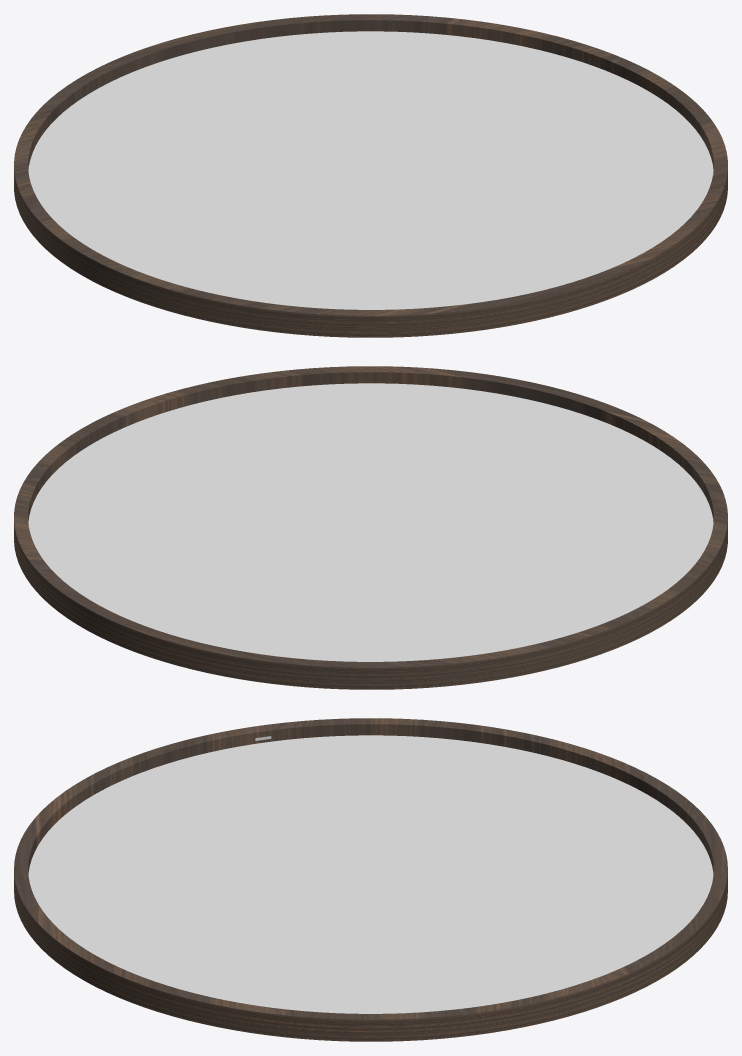
Rendered from mirror.gltf.
3 views of the same model, one above another, from view 1: azimuth 30°, elevation 25°; view 2: azimuth 150°, elevation 25°; view 3: azimuth 270°, elevation 25° (orthographic).
Parts seen in each view (by area): view 1: Mirror Free 1; view 2: Mirror Free 1; view 3: Mirror Free 1.
Boxes of the visible parts, x1,y1,x2,y2 form: Mirror Free 1: [14, 14, 727, 337]; Mirror Free 1: [14, 366, 727, 689]; Mirror Free 1: [14, 718, 727, 1041].
Size of the model in its own units: 1.13 by 0.0381 by 1.13.
Materials: 2 (1 with a texture image).
